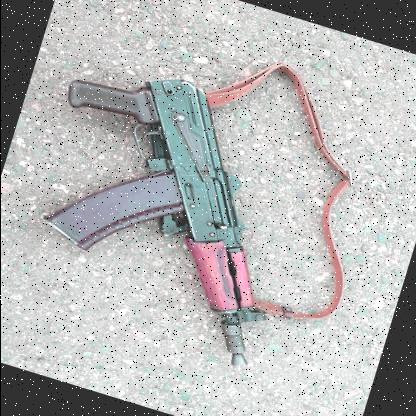rifle: (0, 35, 365, 381)
